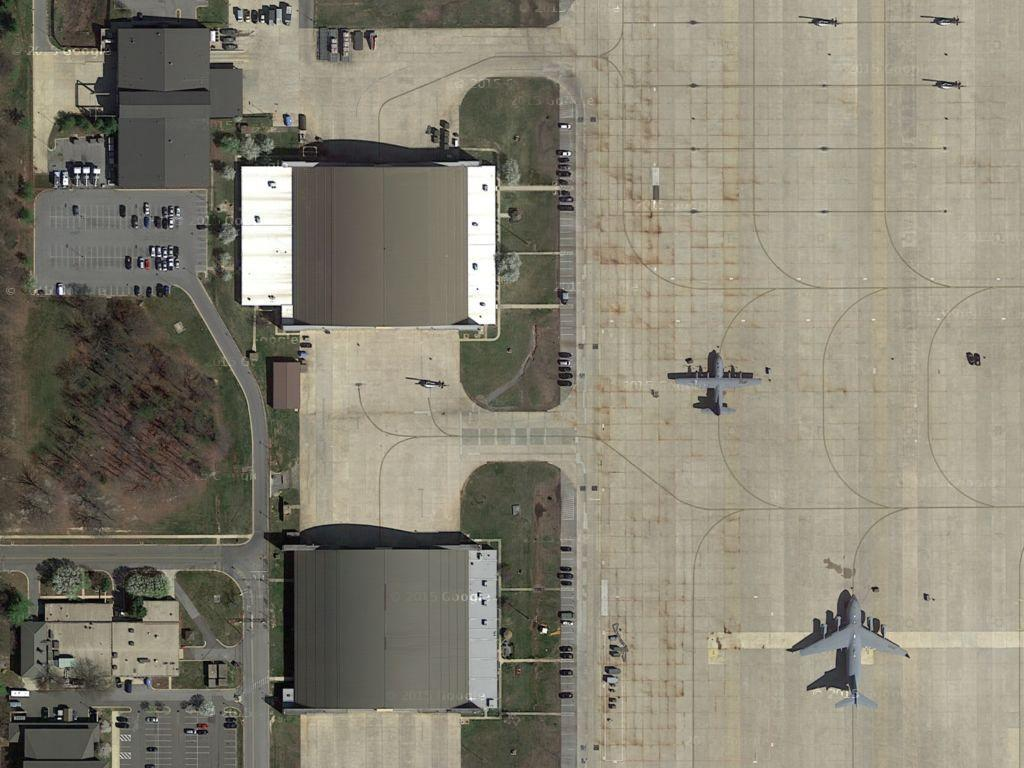C-130: (665, 350, 767, 420)
C-17: (790, 586, 915, 716)
